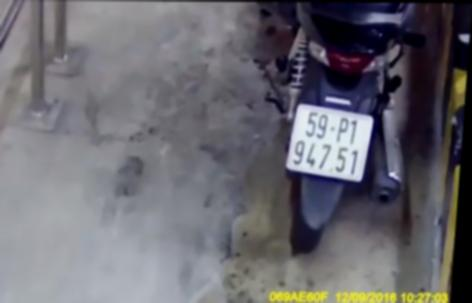License_Plate: (276, 98, 384, 185)
